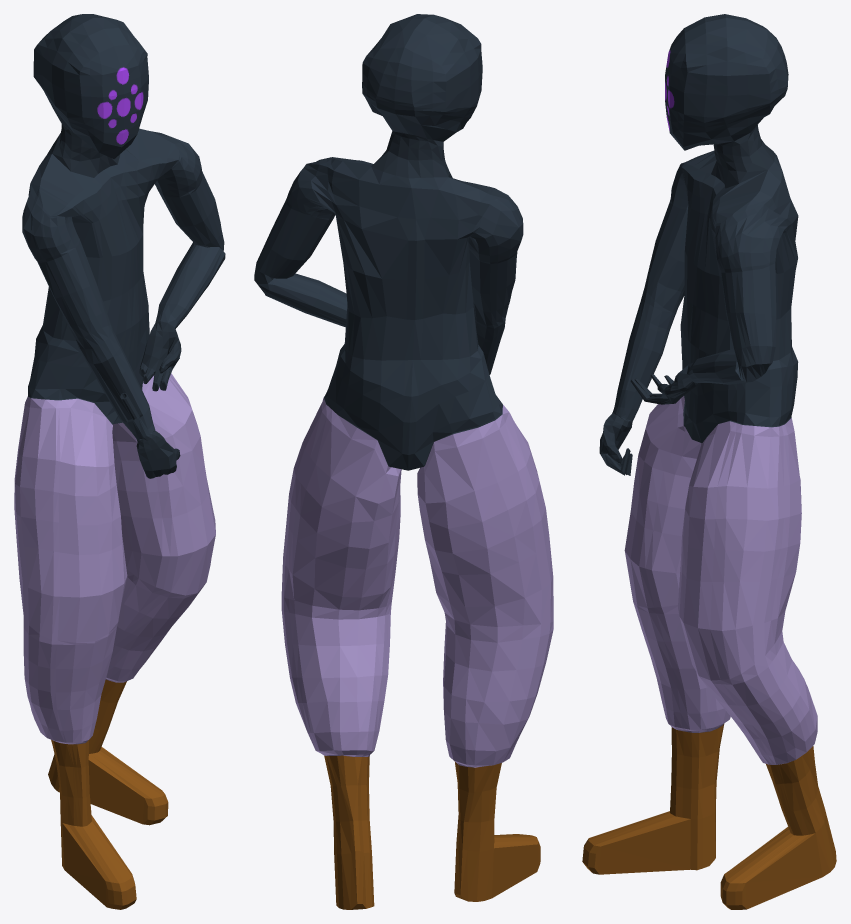
The model's file is Oracle_WF_000025.obj.
3 renders of one model, left to right at view 1: azimuth 30°, elevation 25°; view 2: azimuth 150°, elevation 25°; view 3: azimuth 270°, elevation 25°, orthographic. The views are drawn at different scales.
Visible parts, largest first — view 1: Cube; view 2: Cube; view 3: Cube.
Boxes of the visible parts, <box> form: Cube: <box>14,14,225,909</box>; Cube: <box>254,14,553,909</box>; Cube: <box>582,14,836,909</box>.
Bounding box in the file's own units: 1.16 × 3.93 × 1.04.
